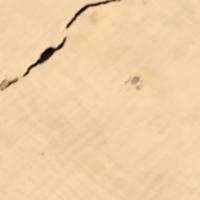crack: (2, 1, 133, 92)
